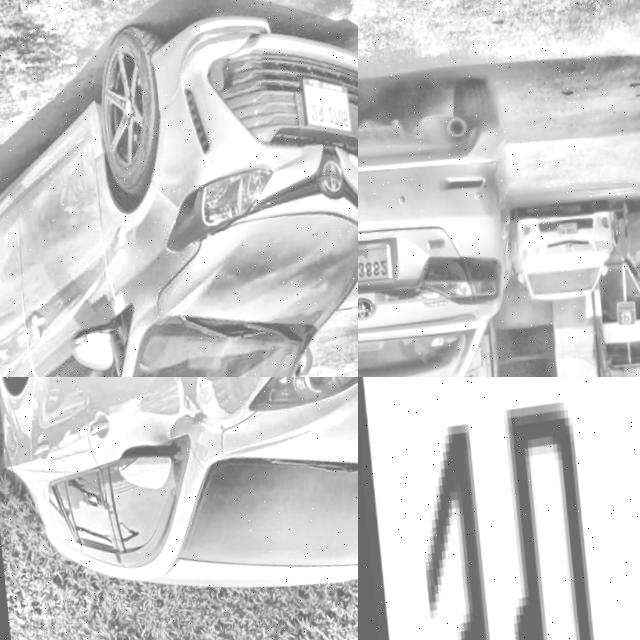license-plate: (358, 377, 640, 640), (294, 76, 355, 149), (358, 238, 390, 293), (551, 226, 577, 246)
